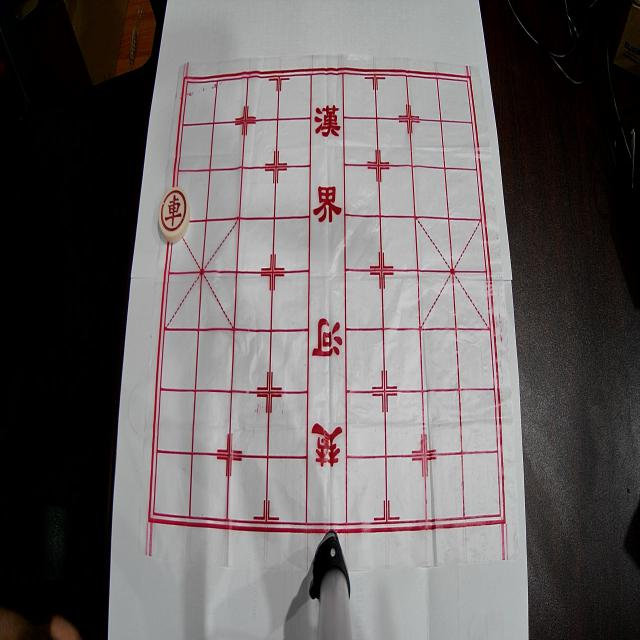red-chariot: (159, 187, 190, 243)
